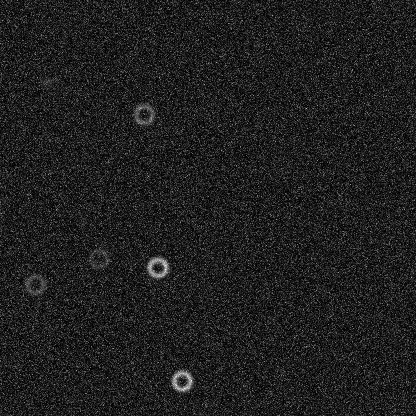Ring: (86, 246, 110, 270), (23, 272, 47, 296), (145, 255, 169, 279), (169, 368, 193, 392), (131, 102, 155, 126)
Spot: (38, 74, 54, 90)
